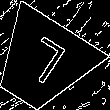L_SW: (15, 34, 69, 93)
